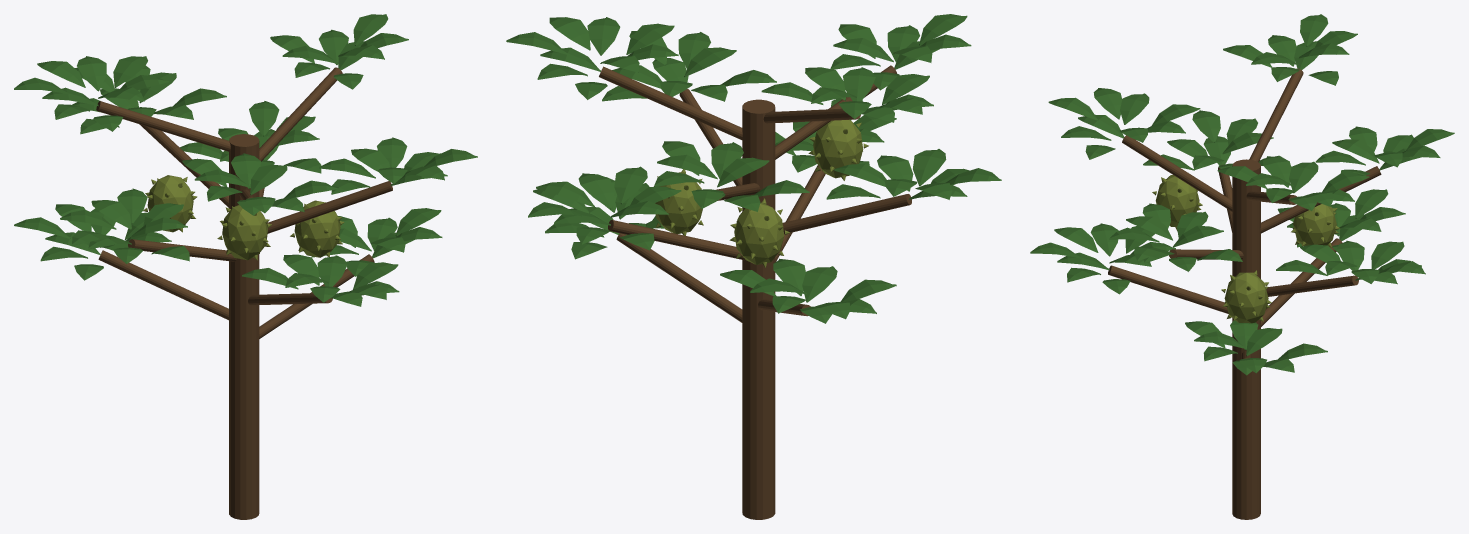
File: source-edit.glb
3 views of the same model, side by side, from view 1: azimuth 30°, elevation 25°; view 2: azimuth 150°, elevation 25°; view 3: azimuth 270°, elevation 25° (orthographic). The views are drawn at different scales.
Visible parts, largest first — view 1: DURIAN_Trunk, DURIAN_Fruit, DURIAN_Fruit.001, DURIAN_Branch.001, DURIAN_Branch.009, DURIAN_Branch.005, DURIAN_Fruit.002, DURIAN_Branch.008, DURIAN_Branch.004, DURIAN_Branch, DURIAN_Branch.002, DURIAN_Branch.006 (+18 smaller); view 2: DURIAN_Trunk, DURIAN_Fruit.002, DURIAN_Fruit, DURIAN_Branch.008, DURIAN_Fruit.001, DURIAN_Branch, DURIAN_Branch.004, DURIAN_Branch.003, DURIAN_Branch.009, DURIAN_Branch.007, DURIAN_Leaf.079, DURIAN_Leaf.033 (+27 smaller); view 3: DURIAN_Trunk, DURIAN_Fruit.001, DURIAN_Fruit.002, DURIAN_Fruit, DURIAN_Branch.007, DURIAN_Branch.002, DURIAN_Branch.009, DURIAN_Branch.003, DURIAN_Branch.006, DURIAN_Branch.001, DURIAN_Leaf.045, DURIAN_Leaf (+19 smaller).
Boxes of the visible parts, <box> form: DURIAN_Trunk: <box>229,134,259,519</box>; DURIAN_Fruit: <box>222,205,267,260</box>; DURIAN_Fruit.001: <box>294,200,340,257</box>; DURIAN_Branch.001: <box>98,250,228,320</box>; DURIAN_Branch.009: <box>96,101,230,151</box>; DURIAN_Branch.005: <box>267,181,392,233</box>; DURIAN_Fruit.002: <box>147,175,193,232</box>; DURIAN_Branch.008: <box>259,67,342,161</box>; DURIAN_Branch.004: <box>128,239,236,261</box>; DURIAN_Branch: <box>259,254,374,338</box>; DURIAN_Branch.002: <box>248,293,332,305</box>; DURIAN_Branch.006: <box>139,124,228,207</box>; DURIAN_Trunk: <box>742,99,775,519</box>; DURIAN_Fruit.002: <box>734,202,784,264</box>; DURIAN_Fruit: <box>813,120,863,178</box>; DURIAN_Branch.008: <box>599,66,742,140</box>; DURIAN_Fruit.001: <box>655,172,702,233</box>; DURIAN_Branch: <box>616,233,742,322</box>; DURIAN_Branch.004: <box>782,194,911,234</box>; DURIAN_Branch.003: <box>608,220,745,260</box>; DURIAN_Branch.009: <box>763,108,860,123</box>; DURIAN_Branch.007: <box>775,65,897,159</box>; DURIAN_Leaf.079: <box>587,17,620,55</box>; DURIAN_Leaf.033: <box>614,166,647,204</box>; DURIAN_Trunk: <box>1232,159,1260,519</box>; DURIAN_Fruit.001: <box>1224,272,1268,323</box>; DURIAN_Fruit.002: <box>1293,204,1336,245</box>; DURIAN_Fruit: <box>1155,175,1199,226</box>; DURIAN_Branch.007: <box>1122,135,1232,211</box>; DURIAN_Branch.002: <box>1108,265,1228,313</box>; DURIAN_Branch.009: <box>1249,68,1303,162</box>; DURIAN_Branch.003: <box>1266,275,1358,296</box>; DURIAN_Branch.006: <box>1260,166,1381,233</box>; DURIAN_Branch.001: <box>1261,238,1342,326</box>; DURIAN_Leaf.045: <box>1192,110,1220,142</box>; DURIAN_Leaf: <box>1300,14,1328,46</box>.
Size of the model in its own units: 3.92 by 4.18 by 3.86.
